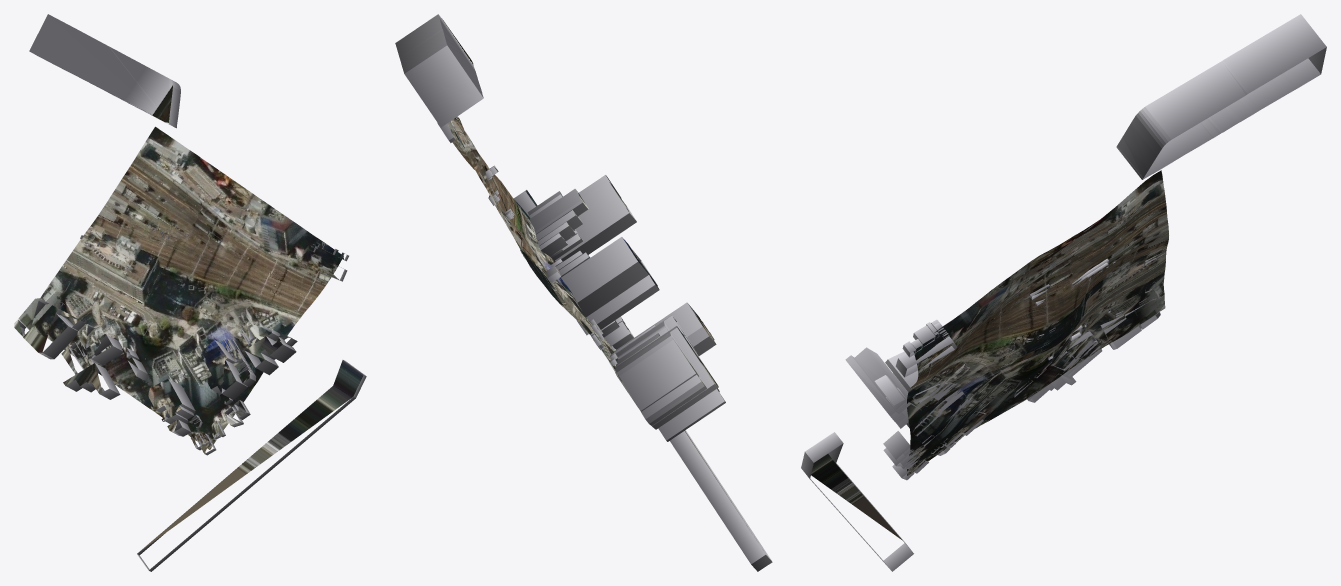
3 views of the same model, side by side, from view 1: azimuth 30°, elevation 25°; view 2: azimuth 150°, elevation 25°; view 3: azimuth 270°, elevation 25° (orthographic). The views are drawn at different scales.
Bounding box in the file's own units: 312 × 507 × 410.
1 material, 1 textured.
